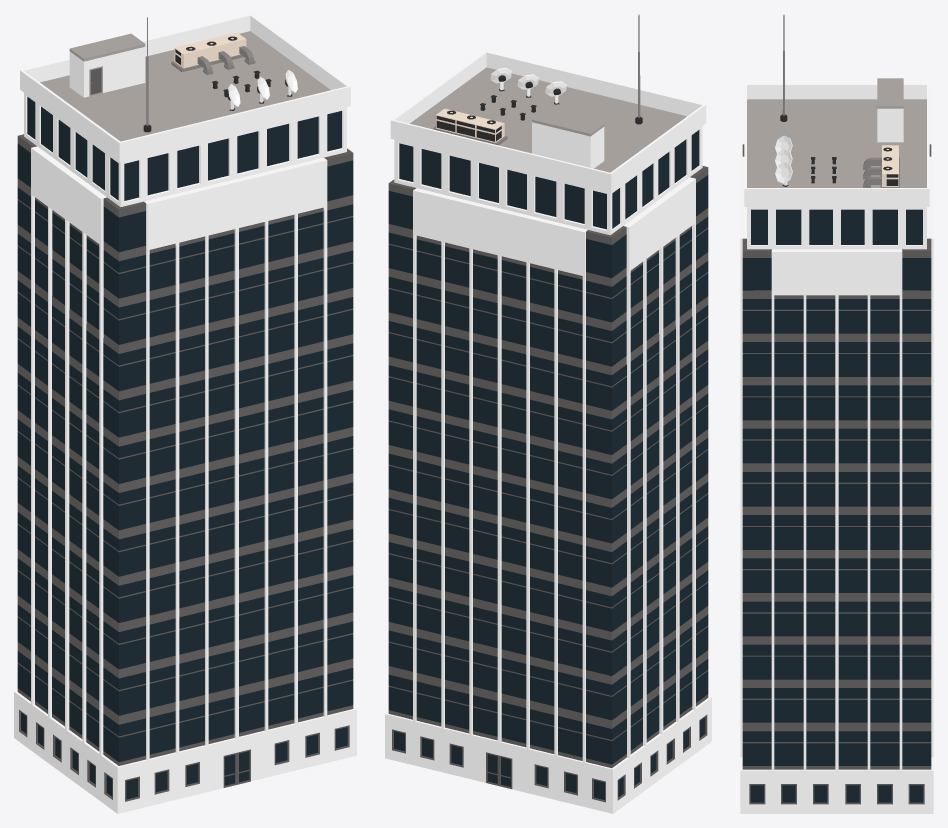
The model's file is building-office-tall.glb.
3 views of the same model, side by side, from view 1: azimuth 30°, elevation 25°; view 2: azimuth 150°, elevation 25°; view 3: azimuth 270°, elevation 25° (orthographic). The views are drawn at different scales.
Visible parts, largest first — view 1: building-office-tall; view 2: building-office-tall; view 3: building-office-tall.
Part boxes in pixels (x1,y1,x2,y2): building-office-tall: (14,14,356,813); building-office-tall: (385,14,711,813); building-office-tall: (740,14,933,813).
Bounding box in the file's own units: 19.43 × 59.58 × 14.6.
Materials: 1 (1 with a texture image).
